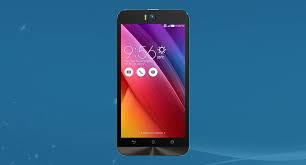asus: (112, 3, 191, 160)
